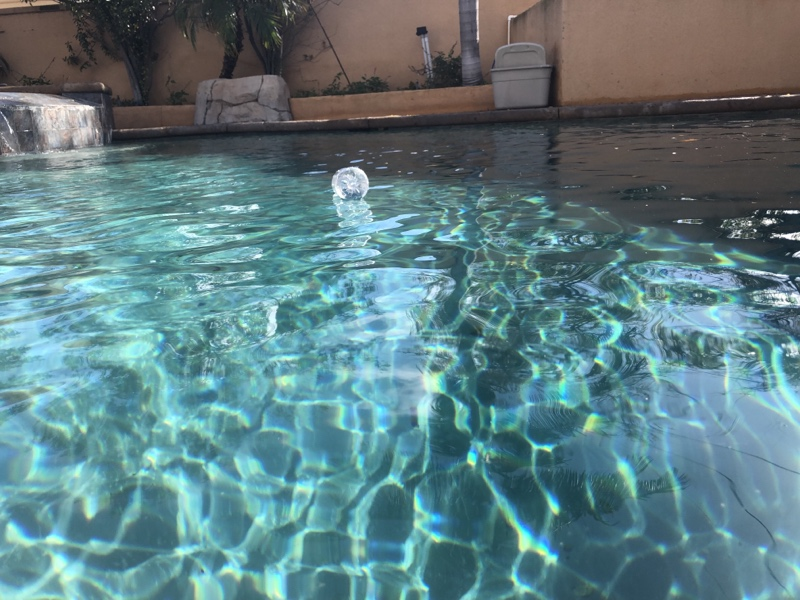Plastic Bottle: (325, 164, 375, 202)
